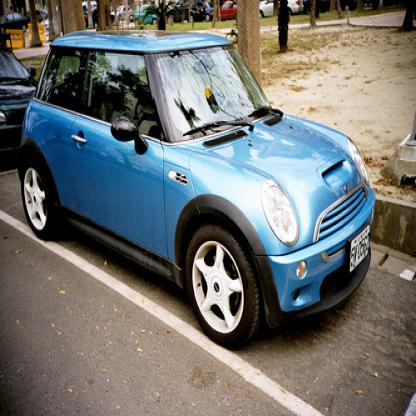car: (17, 32, 376, 350), (1, 45, 41, 171)
person: (279, 1, 291, 50)
